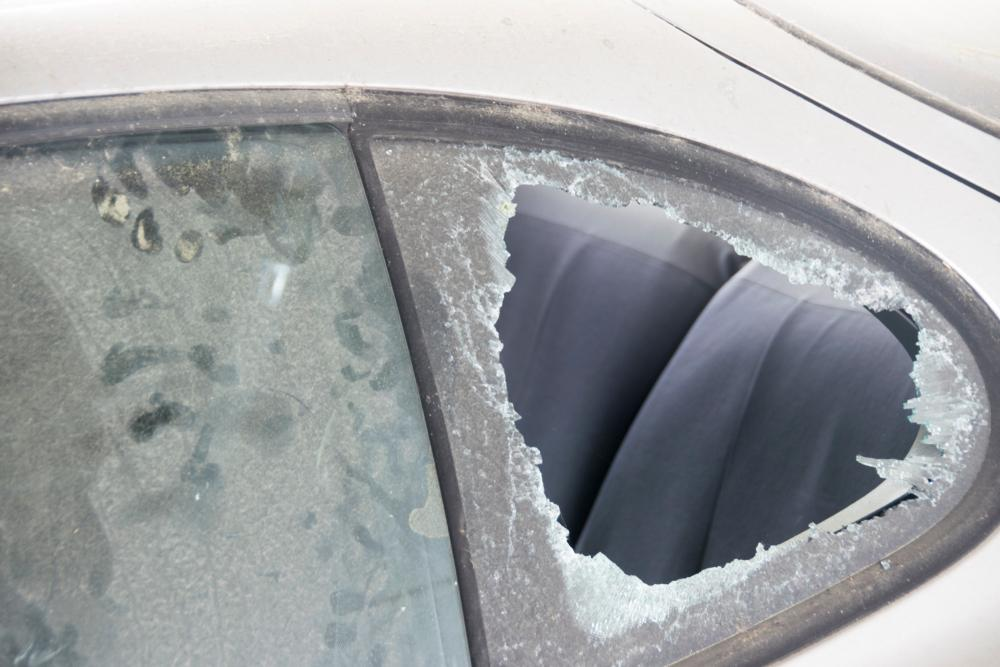glass shatter: (370, 137, 991, 667)
